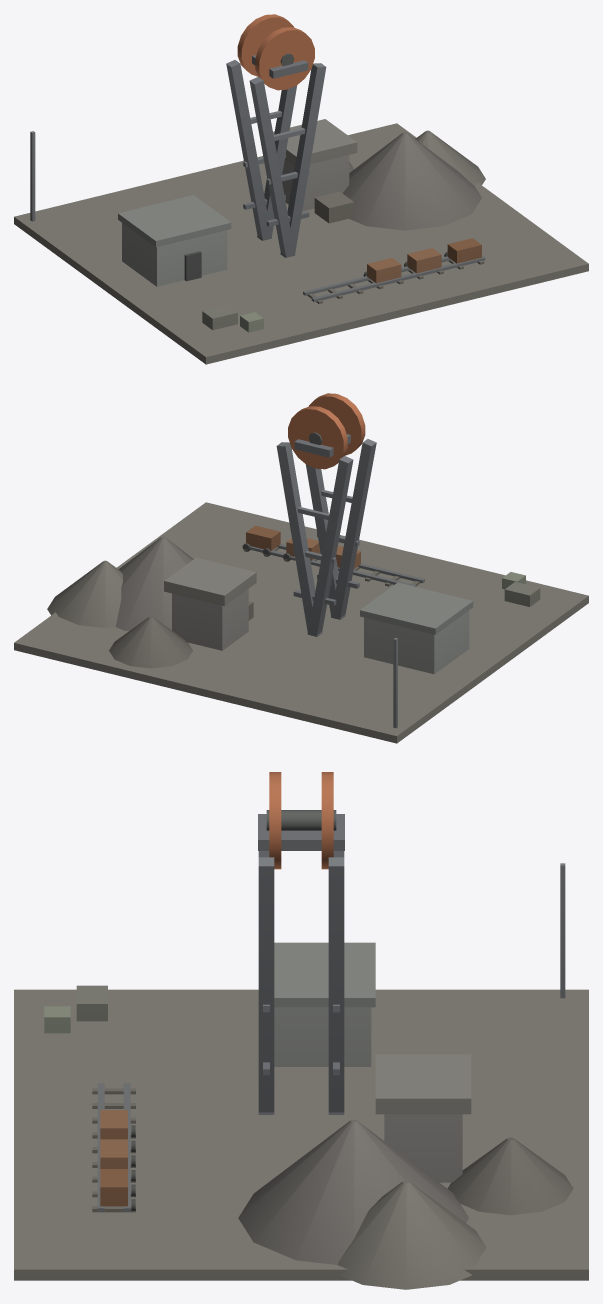
File: m_techb_mine_1ffa0298.glb
3 renders of one model, top to bottom at view 1: azimuth 30°, elevation 25°; view 2: azimuth 150°, elevation 25°; view 3: azimuth 270°, elevation 25°, orthographic. The views are drawn at different scales.
Parts seen in each view (by area): view 1: mesh; view 2: mesh; view 3: mesh.
Boxes of the visible parts, <box> form: mesh: <box>14,14,588,364</box>; mesh: <box>14,393,588,743</box>; mesh: <box>14,772,588,1289</box>.
Bounding box in the file's own units: 80 × 43.8 × 66.
